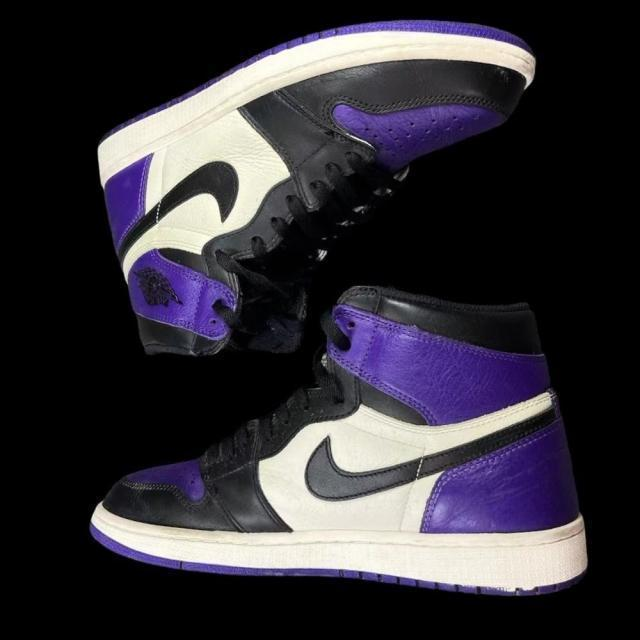nike original jordan 1: (91, 282, 592, 600), (96, 16, 540, 361)
